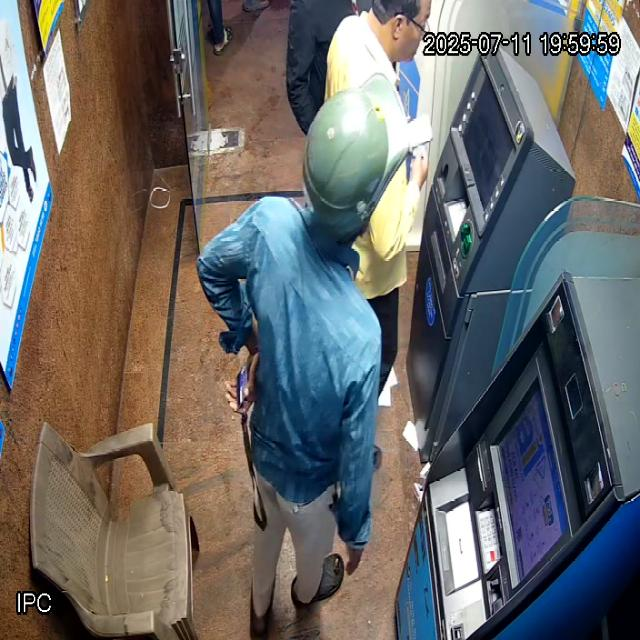helmet: (302, 72, 409, 244)
no_helmet: (366, 0, 431, 64)
